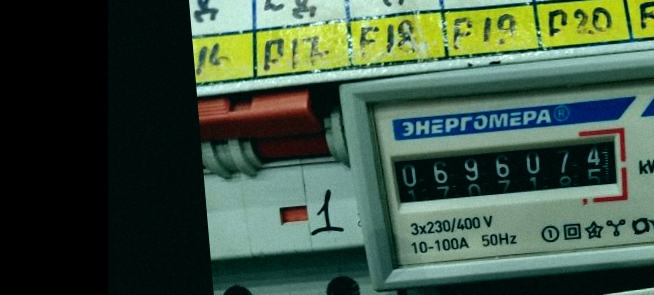0: (398, 161, 419, 188), (524, 148, 542, 175)
4: (585, 142, 603, 167)
5: (587, 166, 603, 185)
6: (431, 157, 452, 185), (492, 153, 511, 178)
7: (553, 146, 573, 174)
9: (461, 155, 482, 182)
screen: (378, 122, 636, 223)
